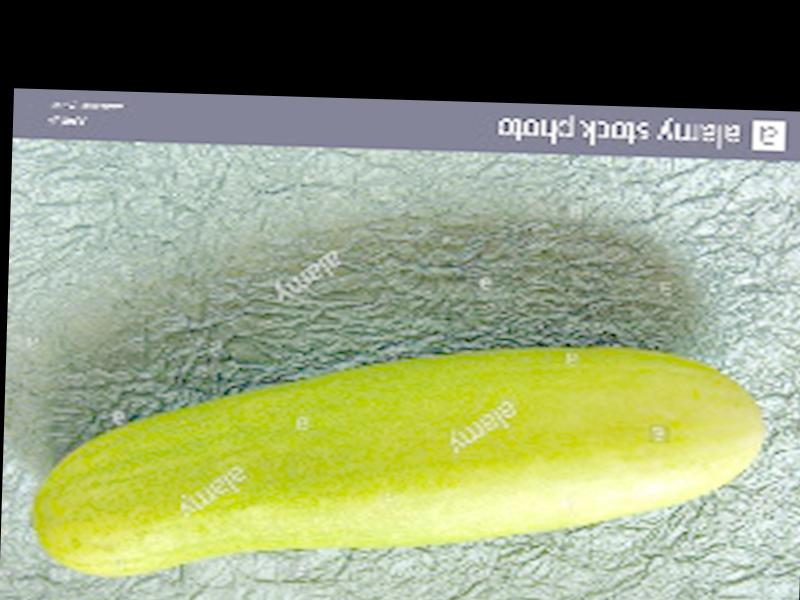Cucumber: (27, 331, 767, 596)
